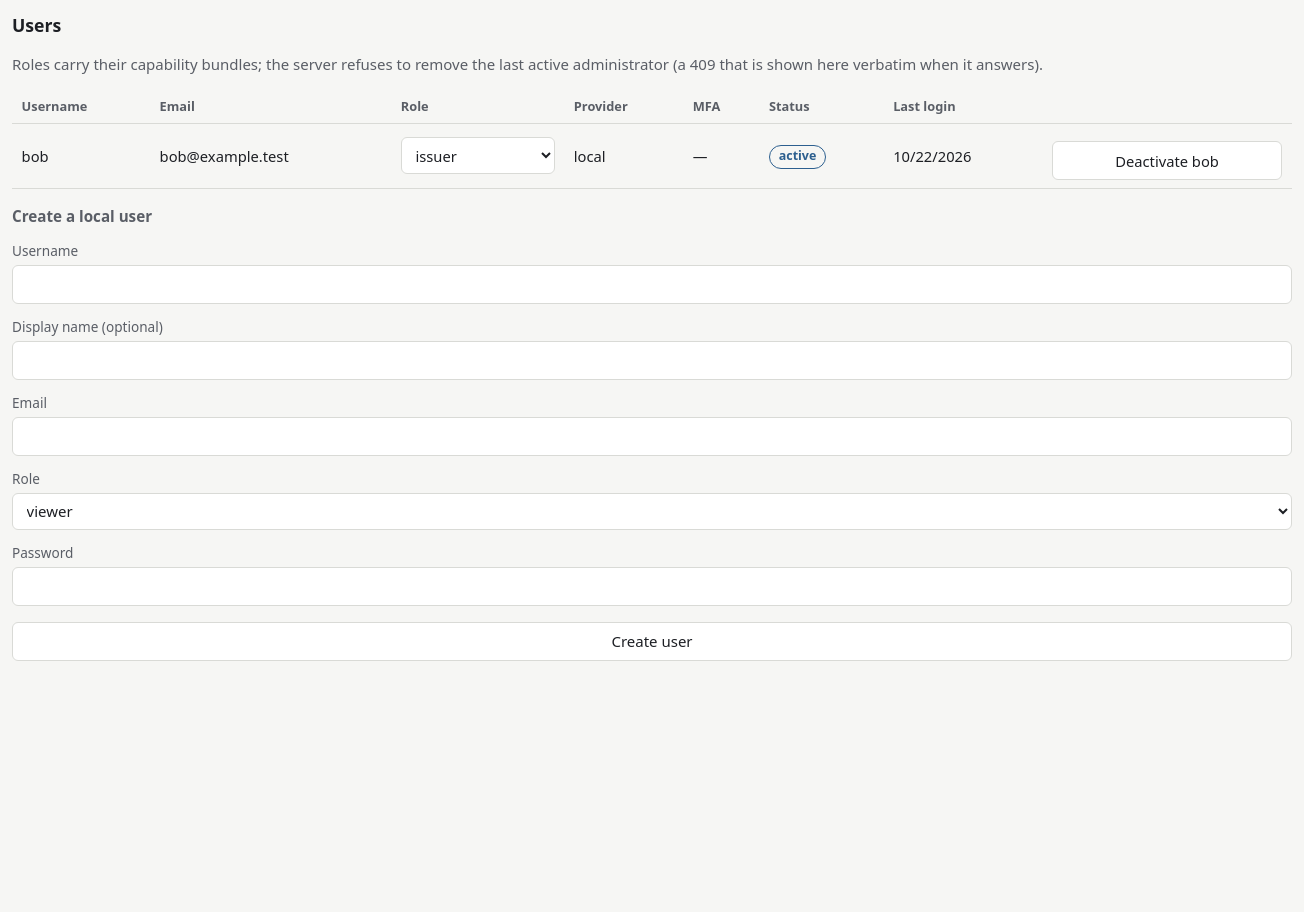
Scenario: AdminUsers › deactivates and re-activates through the PATCH route
Expected: the text "bob" is shown, [12,123,150,188]
Click the button "Deactivate bob" at (1167, 161), box [1052,142,1282,180]
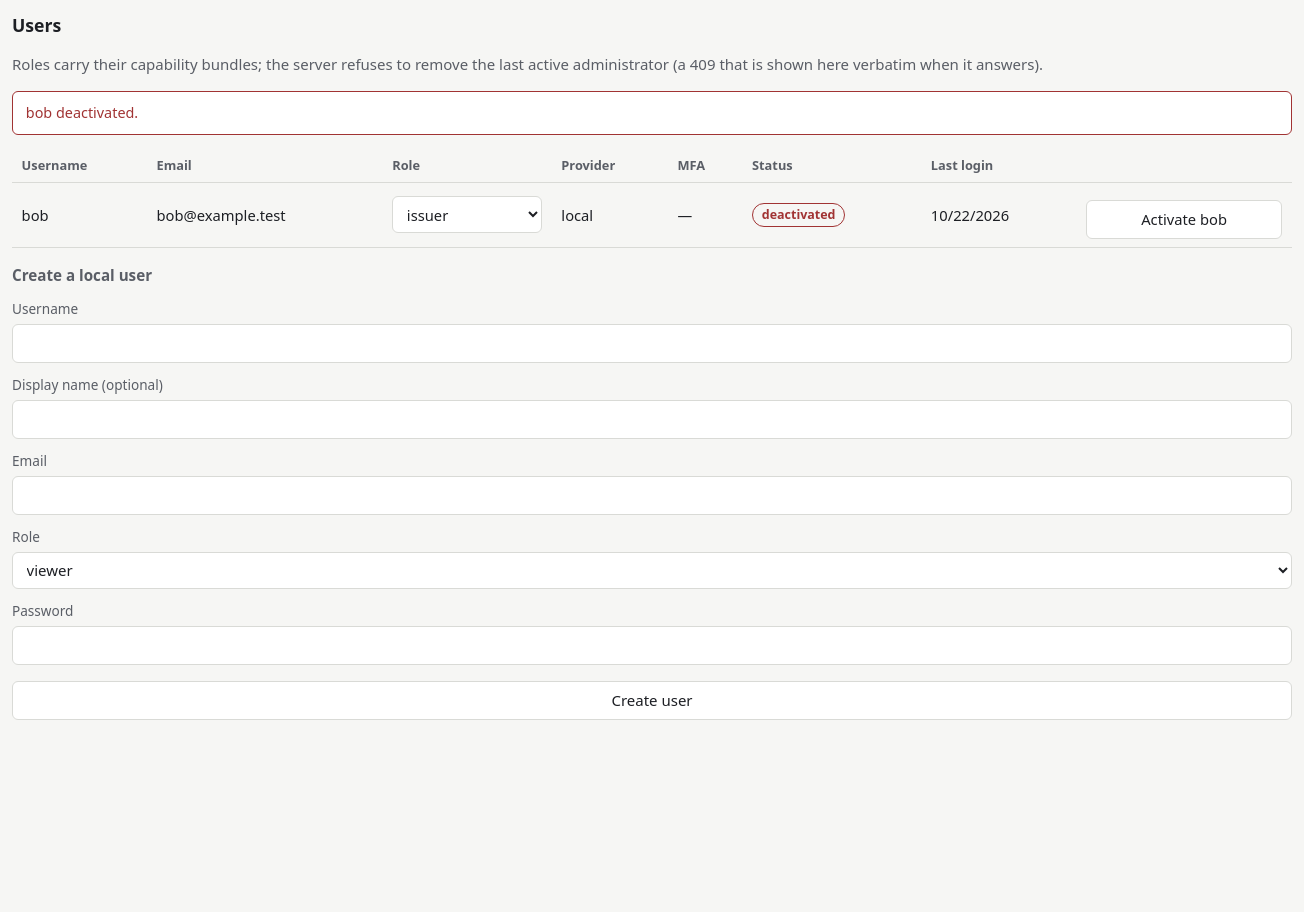
Result: the text "bob deactivated." is shown at [12,91,1292,135]
Click the button "Activate bob" at (1184, 219), box [1086,200,1282,239]
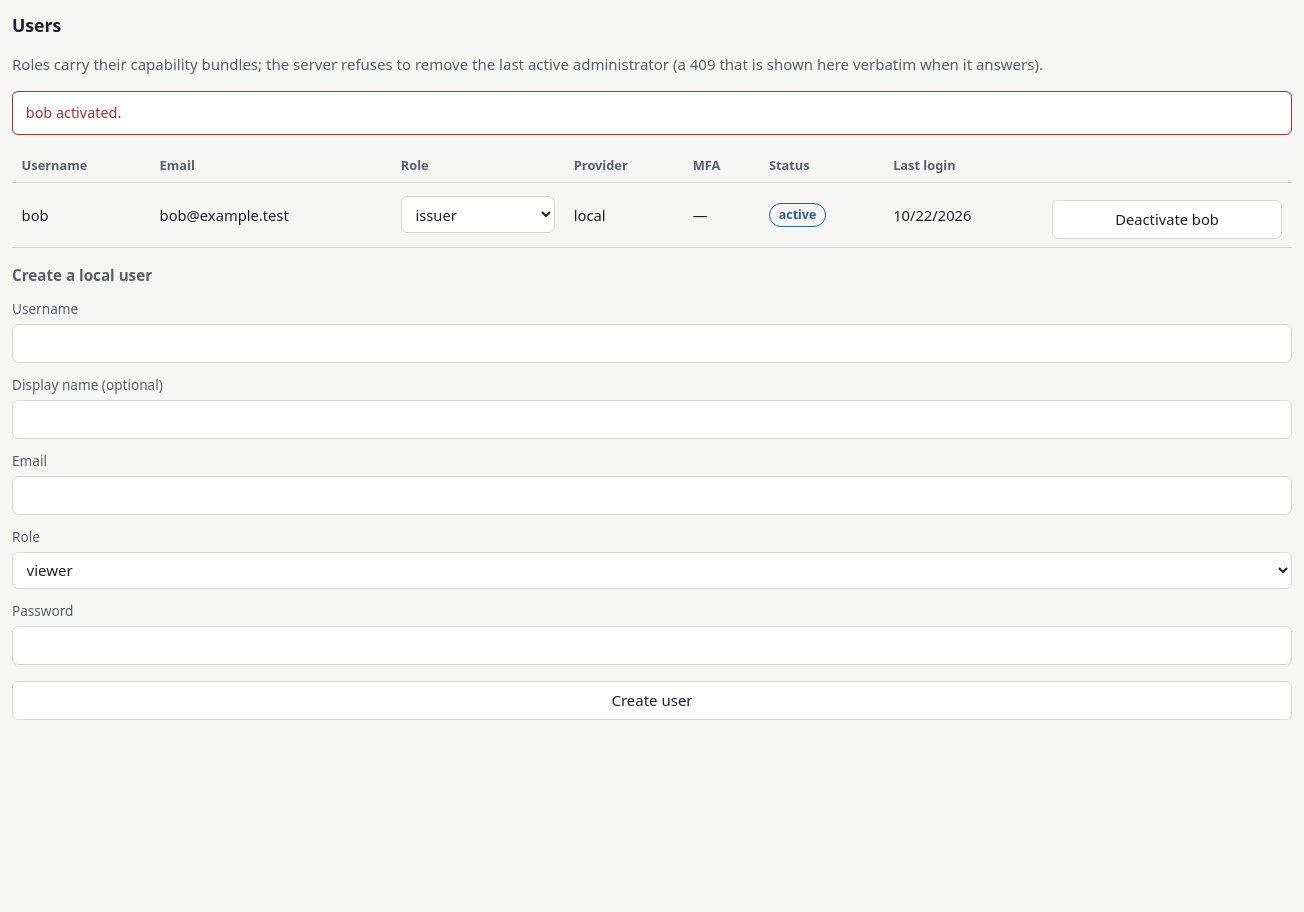
Result: the text "bob activated." is shown at [12,91,1292,135]
